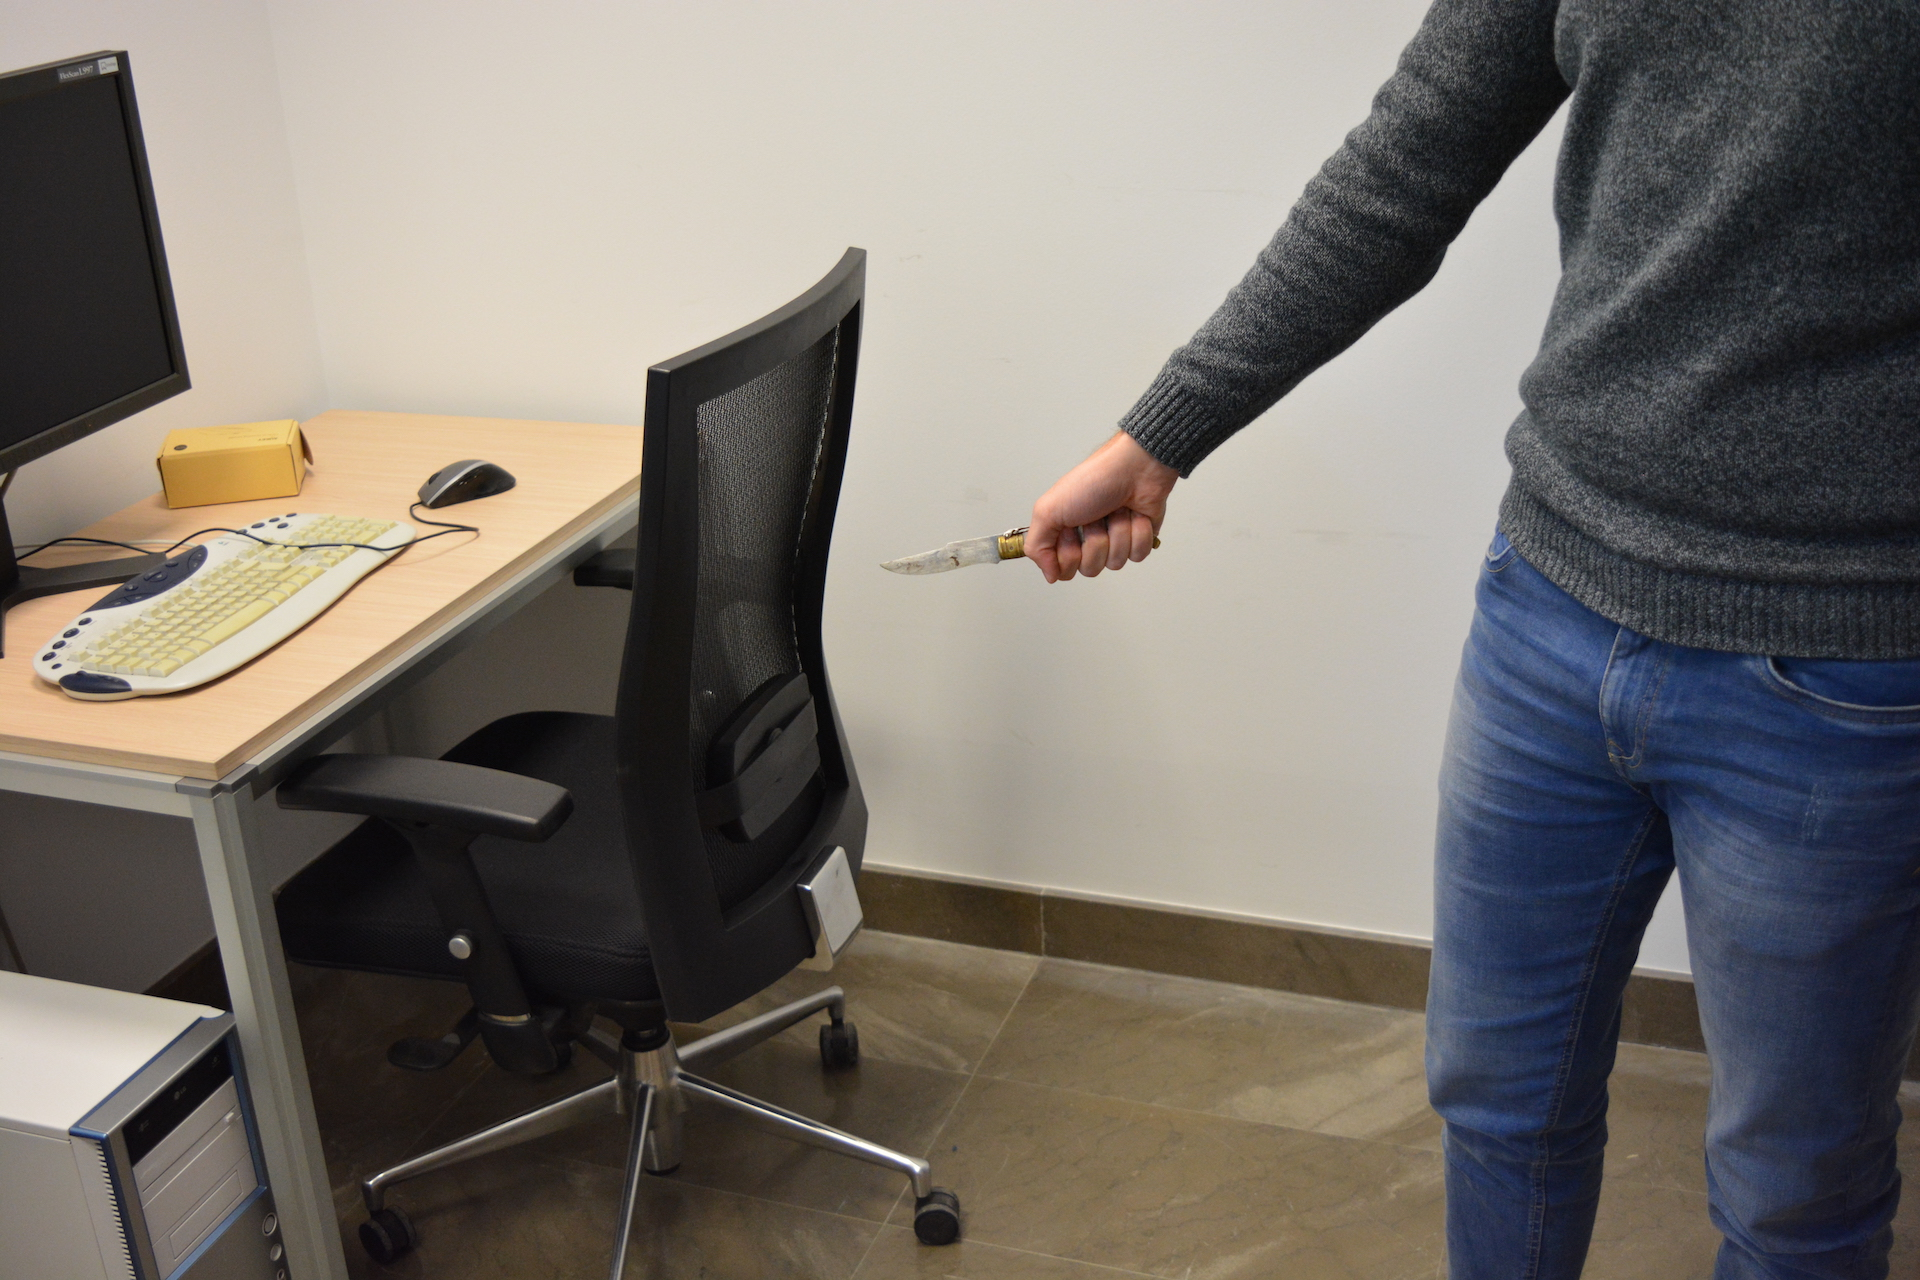knife: (866, 513, 1174, 589)
